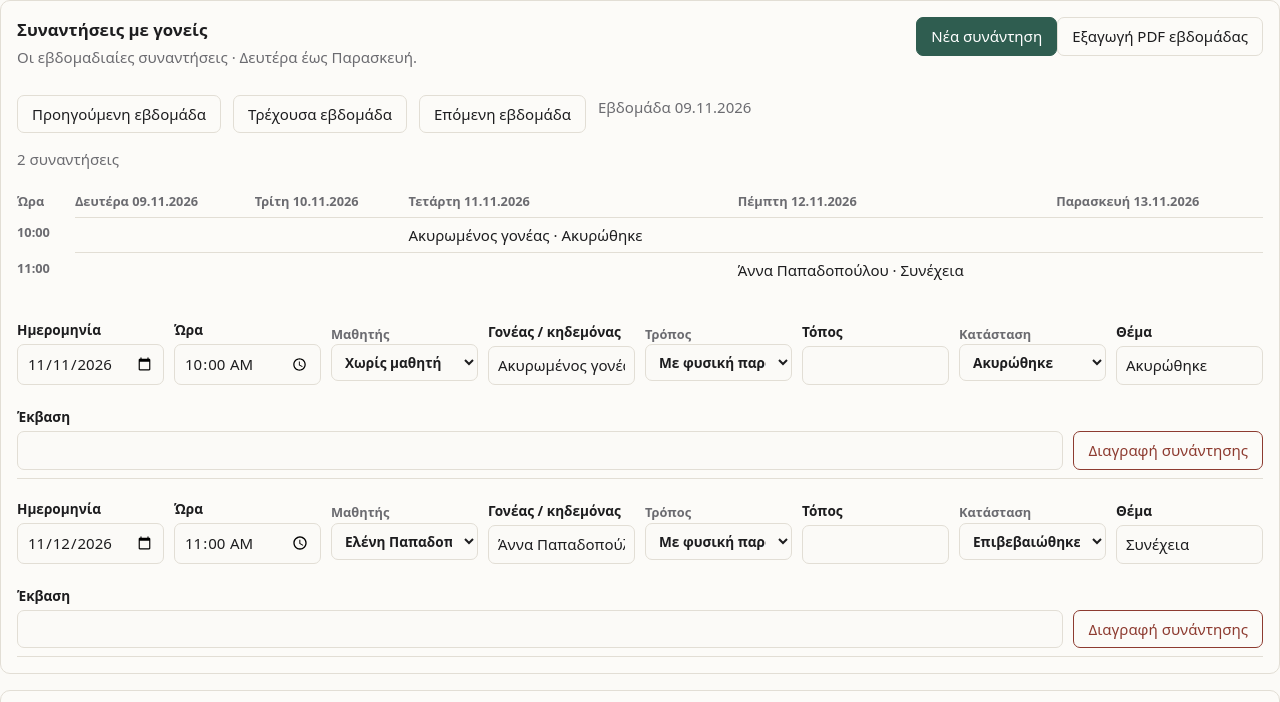
Test: the parent-appointment grid › shows the week the shell's day falls in, and moves week by week
Expected: the text "Εβδομάδα 09.11.2026" is shown, x1=598 y1=96 x2=751 y2=118
Expected: the text "2 συναντήσεις" is shown, x1=17 y1=149 x2=119 y2=169
What coordinates should you click on to do the following:
click the button "Προηγούμενη εβδομάδα"
I would click on:
 (119, 114)
Its box is x1=17 y1=95 x2=221 y2=133.
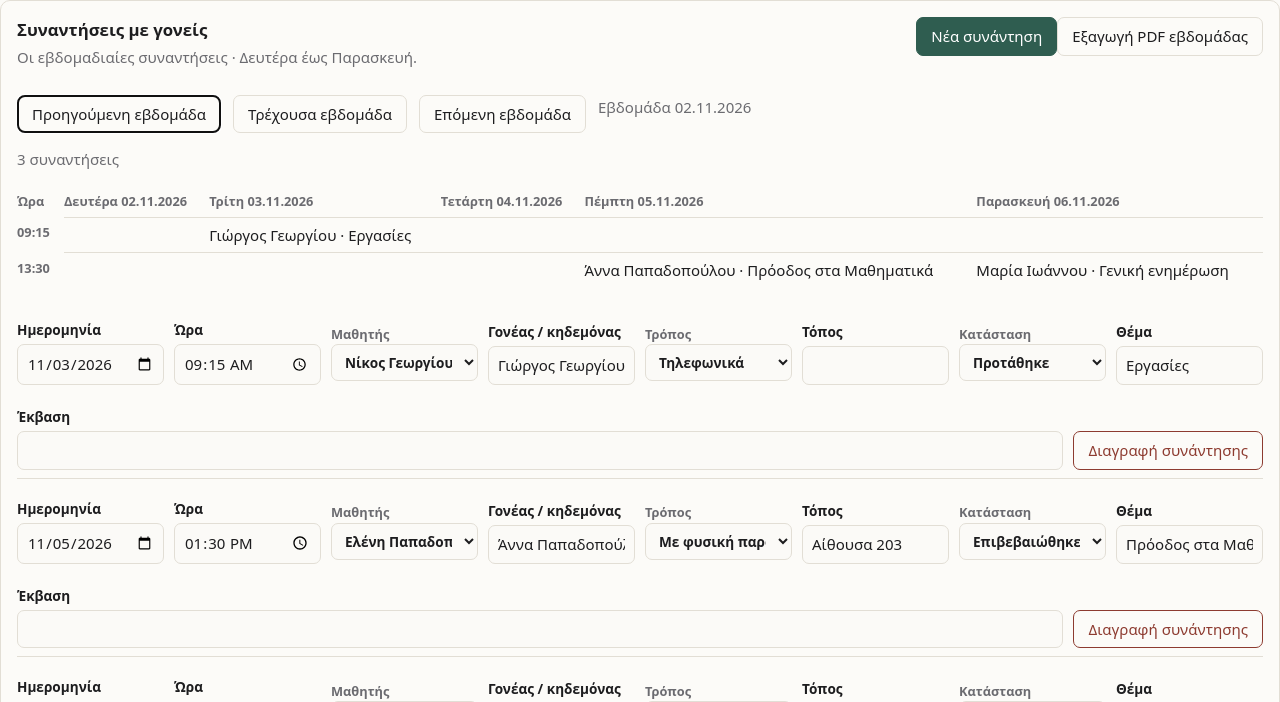
Result: the text "3 συναντήσεις" is shown at x1=17 y1=149 x2=119 y2=169
Result: the text "Εβδομάδα 02.11.2026" is shown at x1=598 y1=96 x2=751 y2=118
# And back again, so "this week" is reachable without counting clicks.
What coordinates should you click on to do the following:
click the button "Τρέχουσα εβδομάδα"
I would click on:
 (320, 114)
Its box is x1=233 y1=95 x2=407 y2=133.
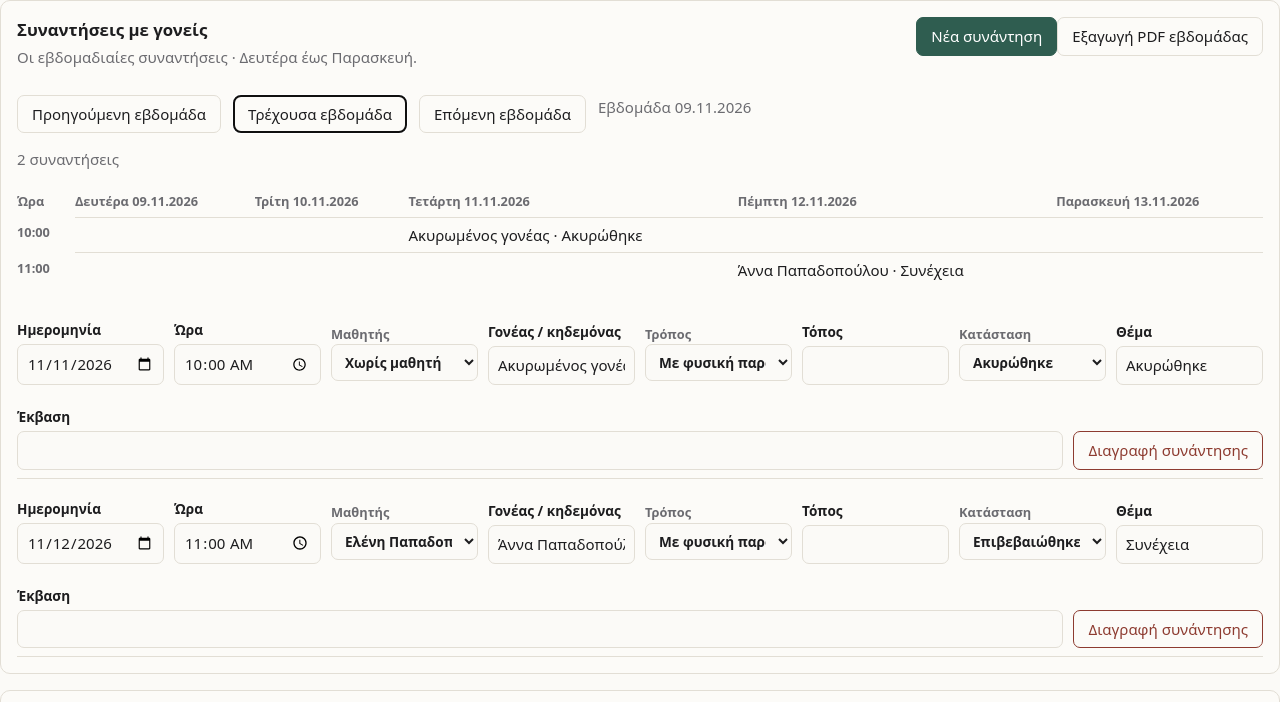
Result: the text "Εβδομάδα 09.11.2026" is shown at x1=598 y1=96 x2=751 y2=118
